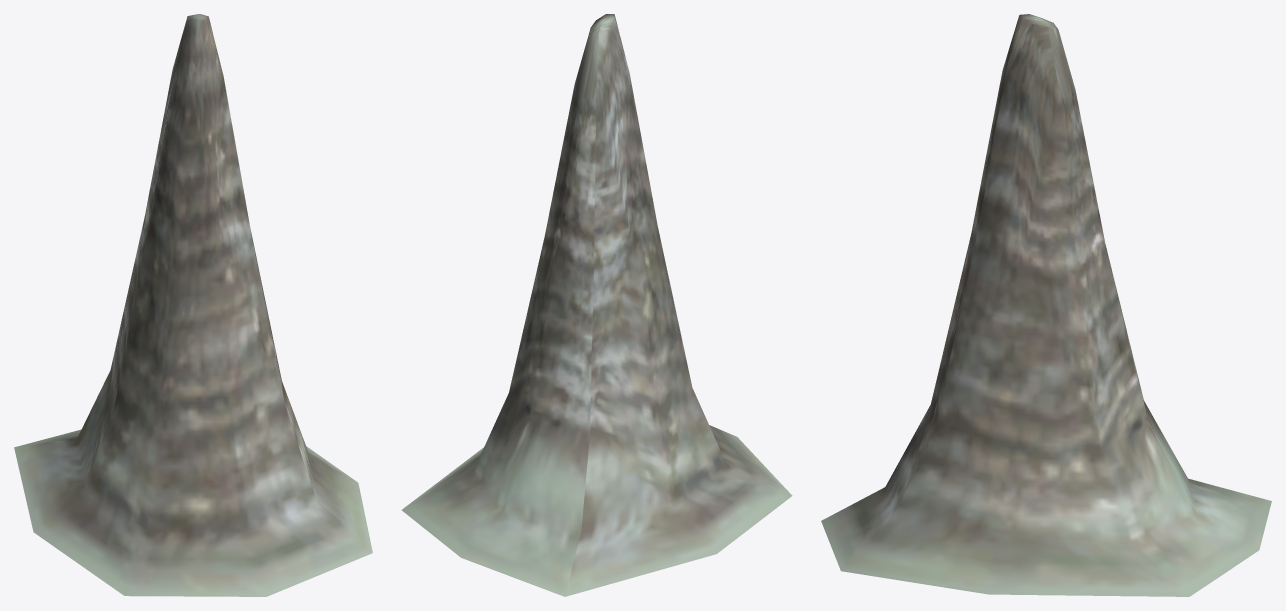
File: TROLLHOLE02_PS-SECRETSTALAG19.fbx
3 views of the same model, side by side, from view 1: azimuth 30°, elevation 25°; view 2: azimuth 150°, elevation 25°; view 3: azimuth 270°, elevation 25° (orthographic). The views are drawn at different scales.
Parts seen in each view (by area): view 1: TROLLHOLE02_PS-SECRETSTALAG19; view 2: TROLLHOLE02_PS-SECRETSTALAG19; view 3: TROLLHOLE02_PS-SECRETSTALAG19.
Boxes of the visible parts, x1=… form: TROLLHOLE02_PS-SECRETSTALAG19: x1=14, y1=14, x2=372, y2=596; TROLLHOLE02_PS-SECRETSTALAG19: x1=401, y1=14, x2=792, y2=596; TROLLHOLE02_PS-SECRETSTALAG19: x1=821, y1=14, x2=1271, y2=596.
Bounding box in the file's own units: 22422 × 38944 × 30105.
1 material, 1 textured.
